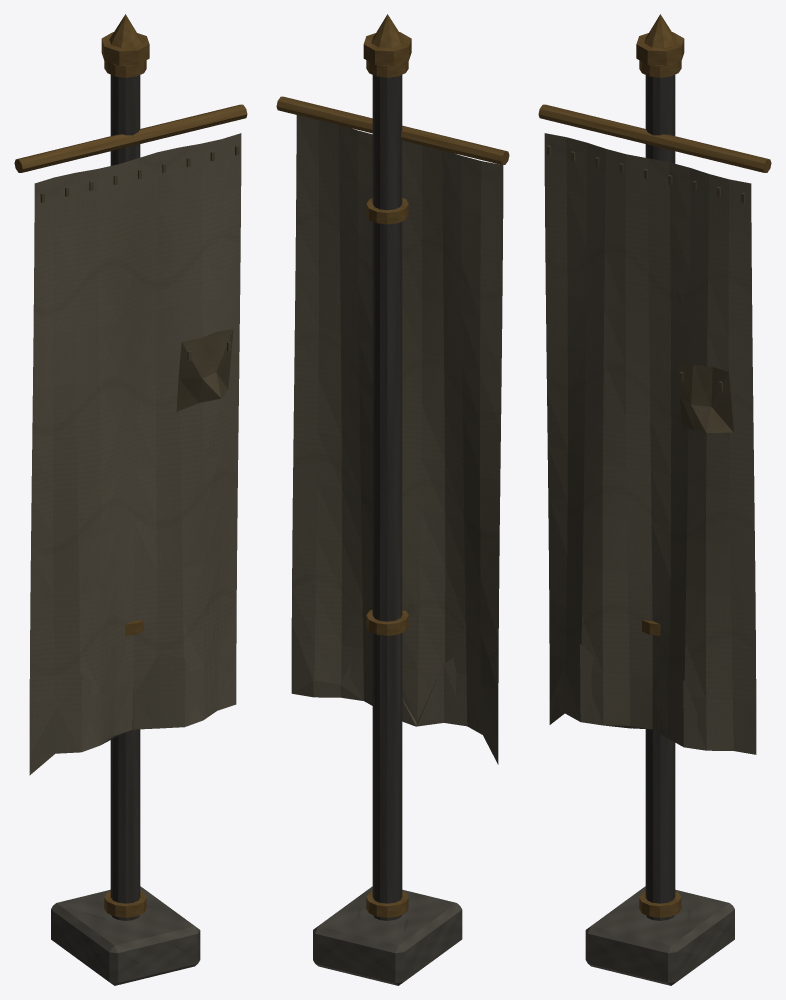
File: env_banner_pole.fbx
3 renders of one model, left to right at view 1: azimuth 30°, elevation 25°; view 2: azimuth 150°, elevation 25°; view 3: azimuth 330°, elevation 25°, orthographic.
Parts seen in each view (by area): view 1: env_banner_pole; view 2: env_banner_pole; view 3: env_banner_pole.
Part boxes in pixels (x1,y1,x2,y2): env_banner_pole: [14, 14, 247, 985]; env_banner_pole: [276, 14, 509, 985]; env_banner_pole: [538, 14, 771, 985].
Size of the model in its own units: 80 by 40 by 320.
1 material, 1 textured.
